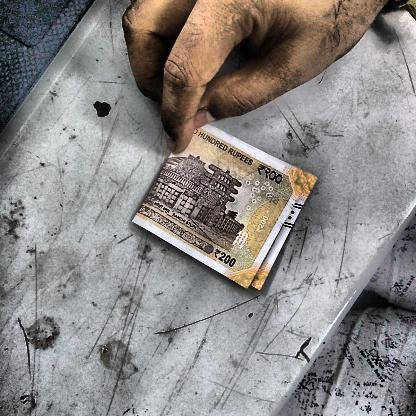Rs200: (209, 246, 239, 271)
